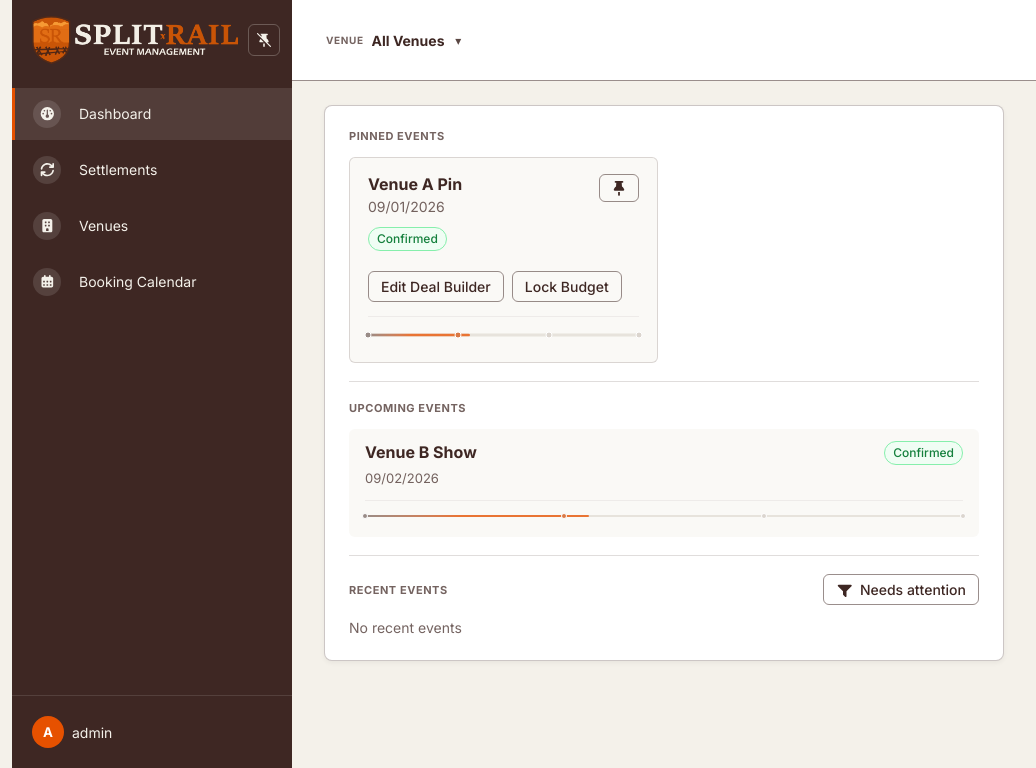
Test: DashboardOverviewPage › pins from venue A not shown after switching to venue B
Check: the heading "Venue A Pin" is shown, box [368,174,462,194]
Click the button with test id "venue-switcher-trigger". click: (387, 40)
box: [324,26,450,54]
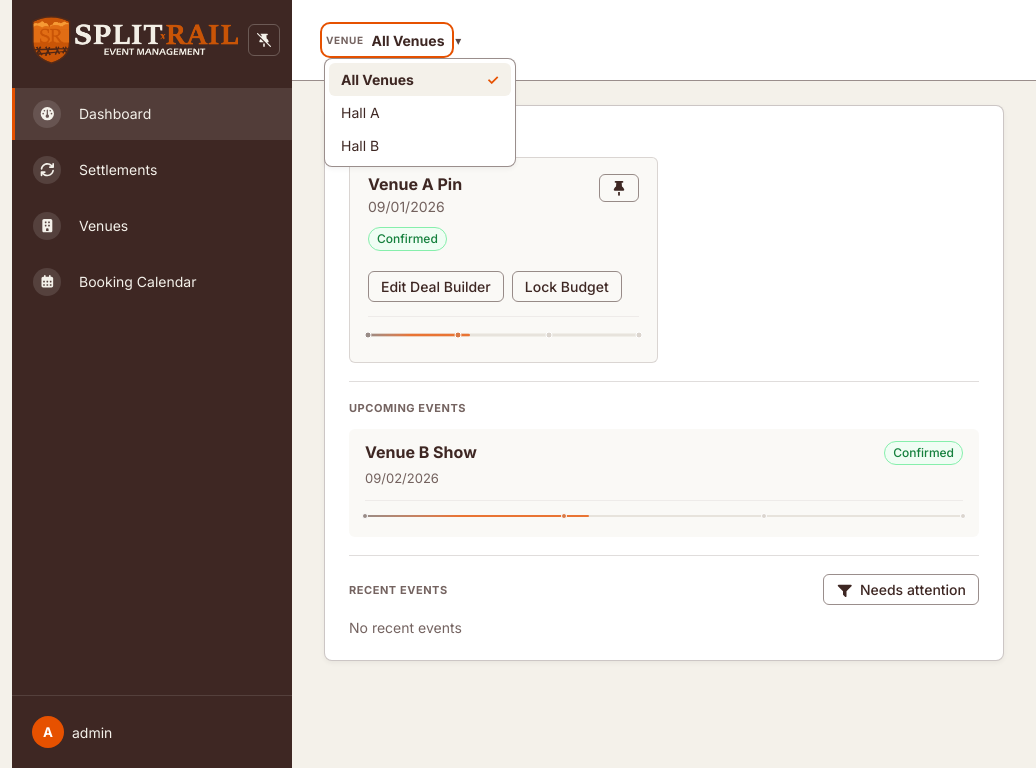
Click the option "Hall B". click: (420, 146)
box: [329,129,511,162]
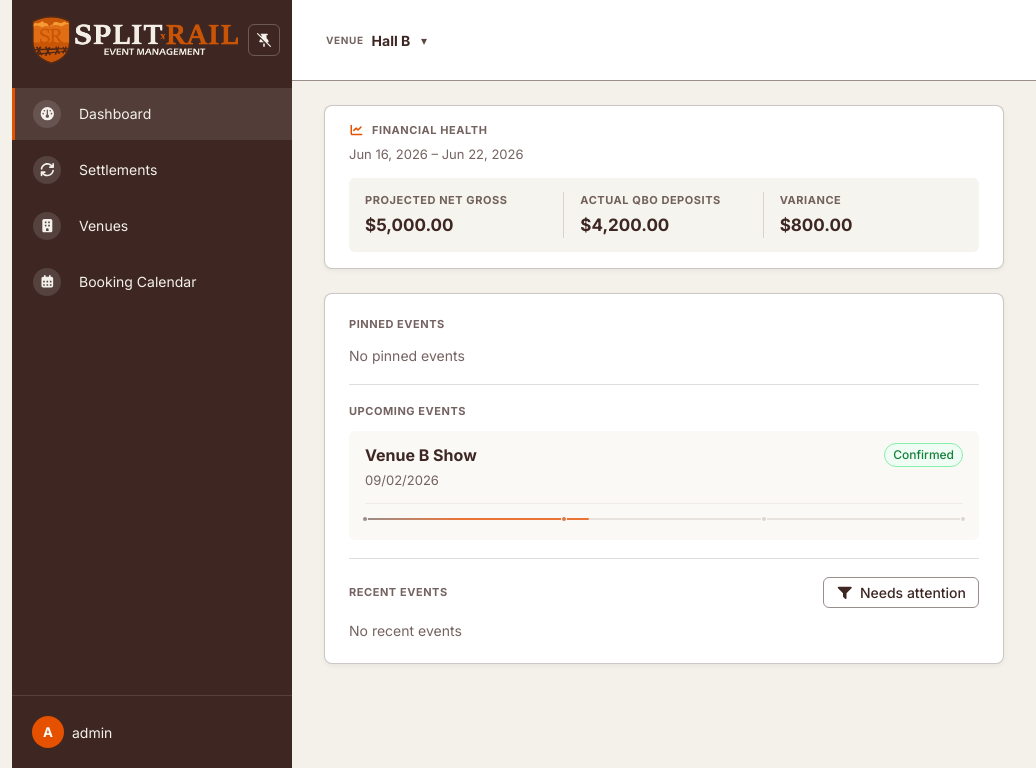
Check: the heading "Venue B Show" is shown, box [365,445,477,465]
Check: the button "Venue A Pin" is gone
